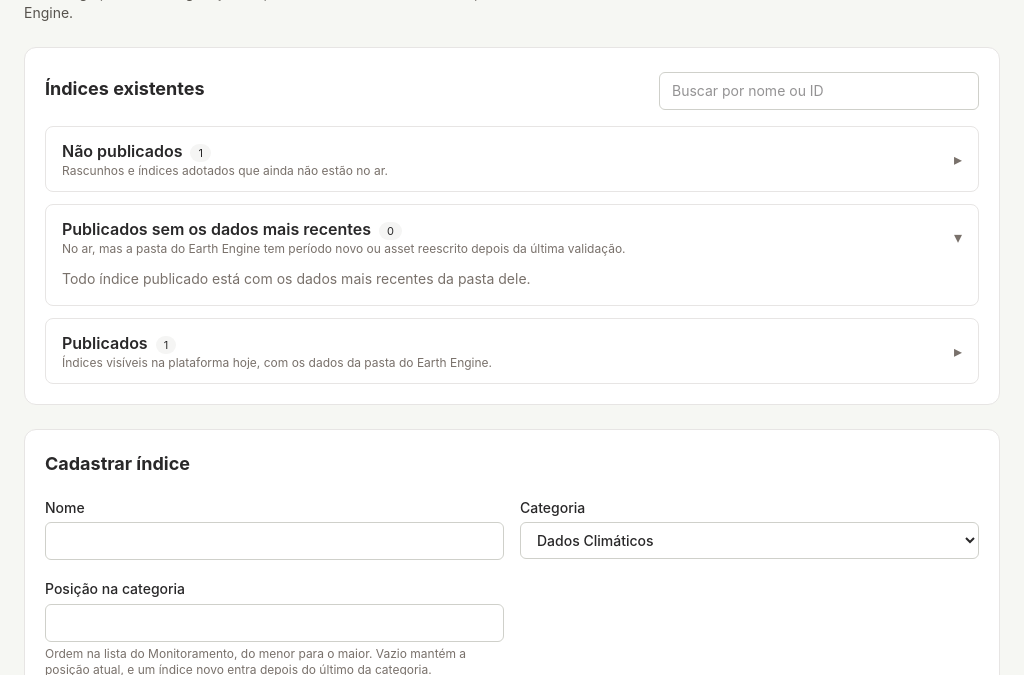
Test: IndexCatalogScreen v2 › abre o índice v2 mesmo com um índice legado adotado já aberto
The width and height of the screenshot is (1024, 675).
Click the button "Publicados". click: (105, 343)
box: [46,319,978,383]
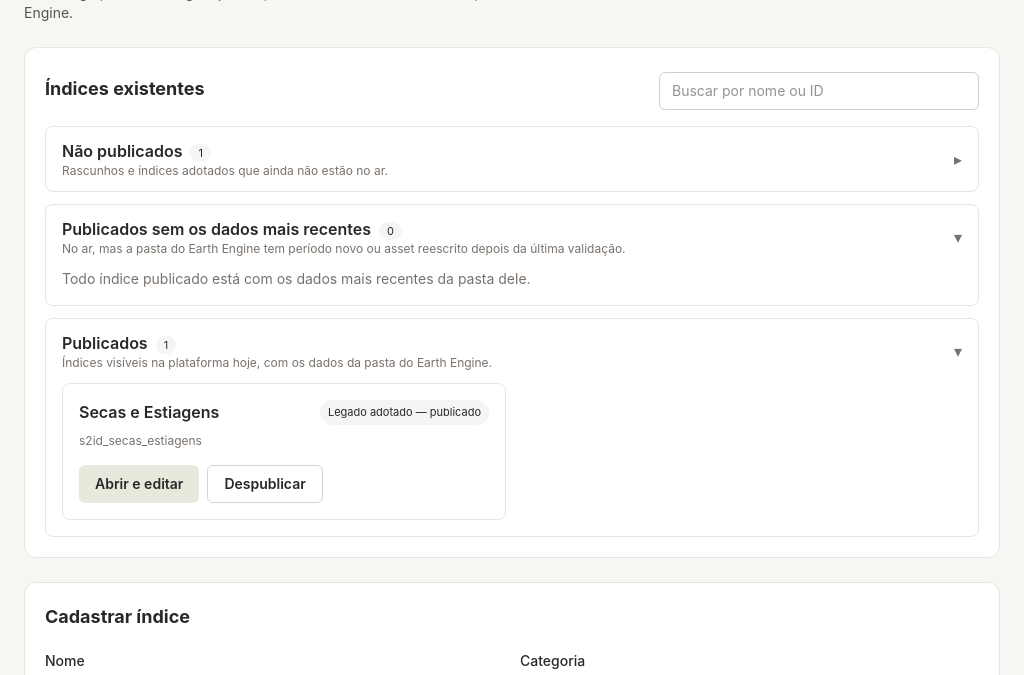
Click the button "Não publicados". click: (122, 151)
box: [46,127,978,191]
(page scrolled)
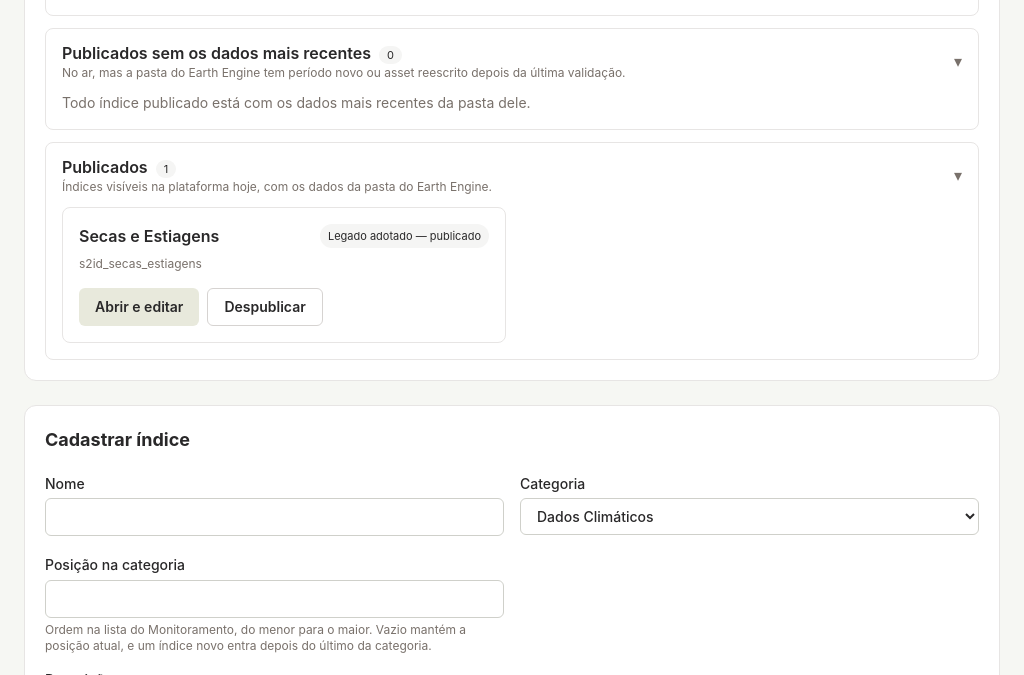
Click the button "Abrir e editar" below "s2id_secas_estiagens". click: (139, 307)
box: [79,288,199,326]
(page scrolled)
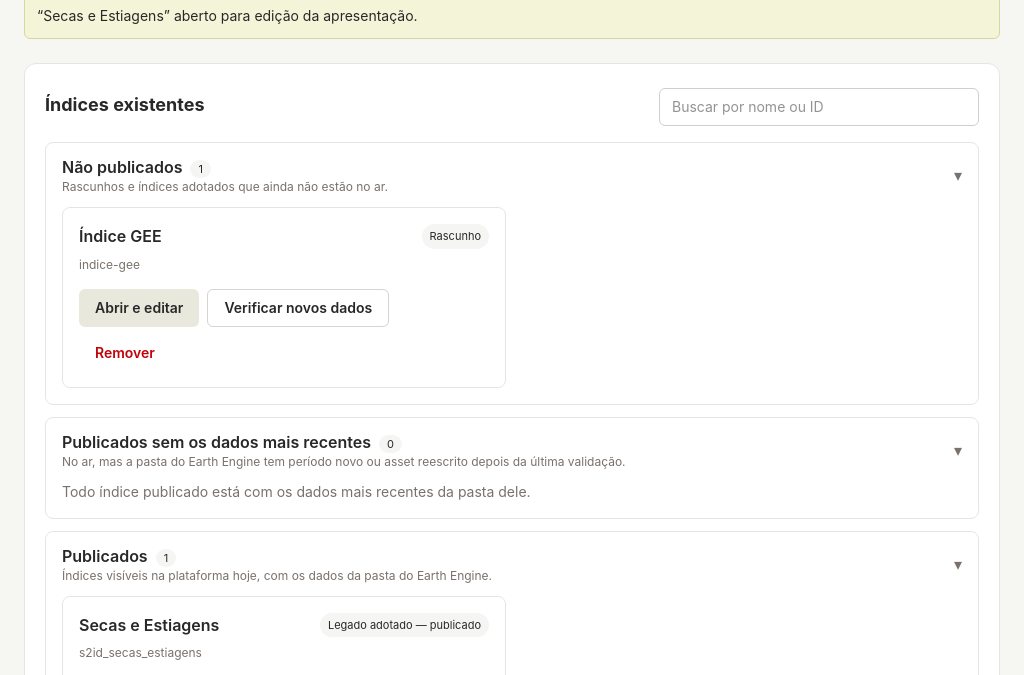
Click the button "Abrir e editar" below "indice-gee". click: (139, 308)
box: [79,288,199,326]
(page scrolled)
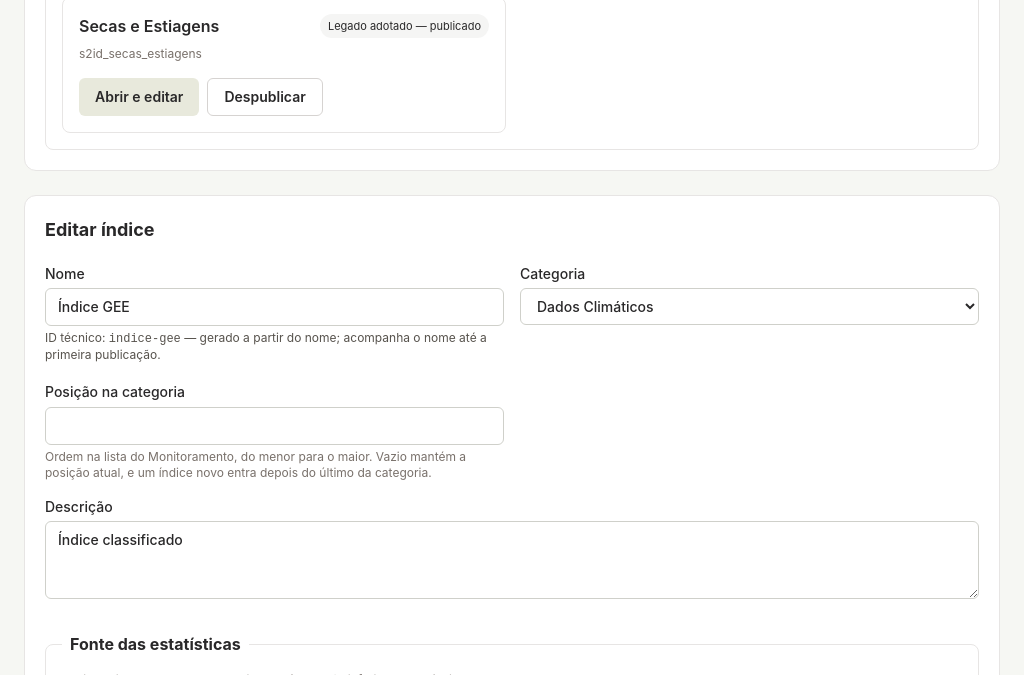
Expected: the heading "Editar índice" is shown, [45,219,154,240]
Expected: the field showing "Índice GEE" is shown, [45,288,504,326]
